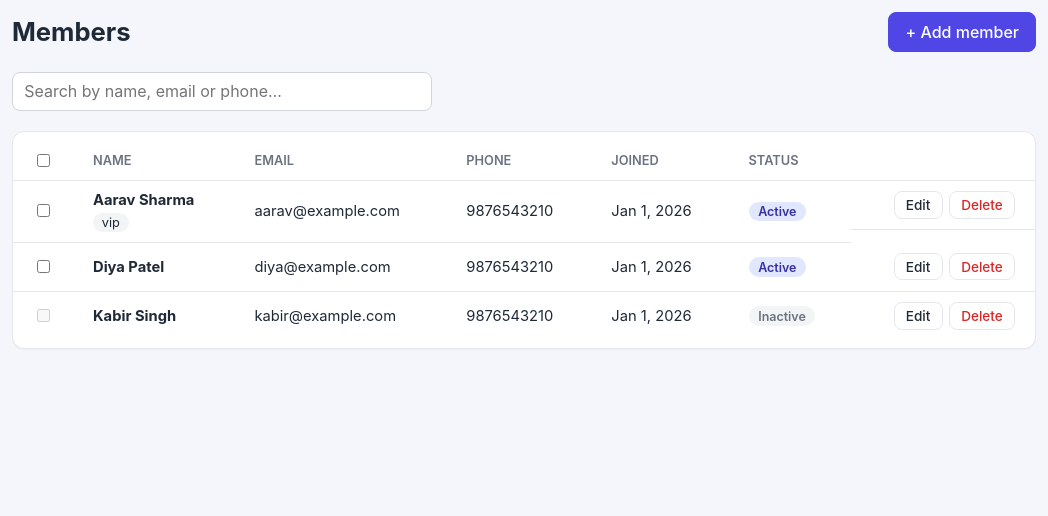
Test case: MembersPage › shows error if tag name is empty when applying bulk tag update
The image size is (1048, 516).
expect the text "Aarav Sharma" is shown: met, box [93,191,194,209]
Click the checkbox named "Select Aarav Sharma" at (44, 211), box [37,204,50,218]
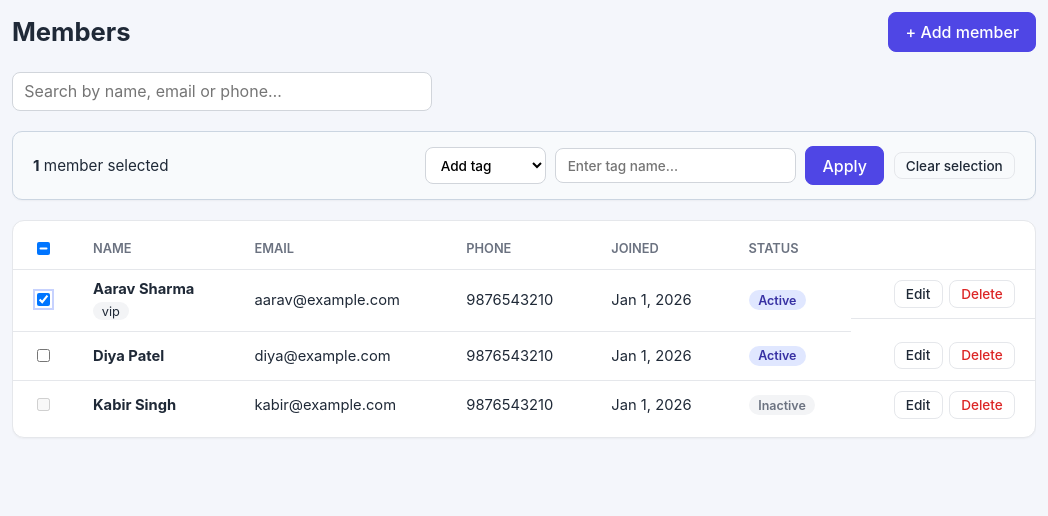
Click the button "Apply" at (845, 166), box [805,146,884,185]
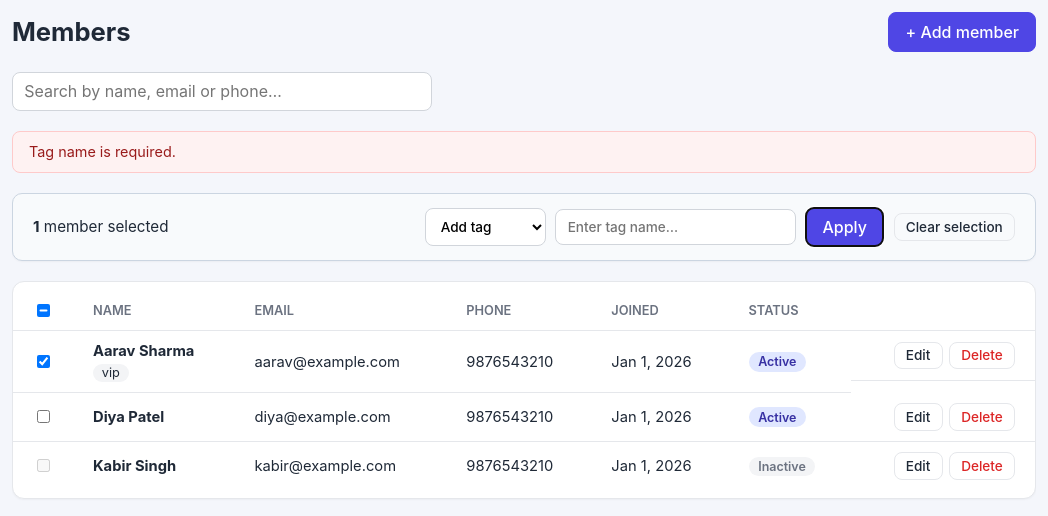
expect the message shows "Tag name is required": met, box [29,143,176,160]
